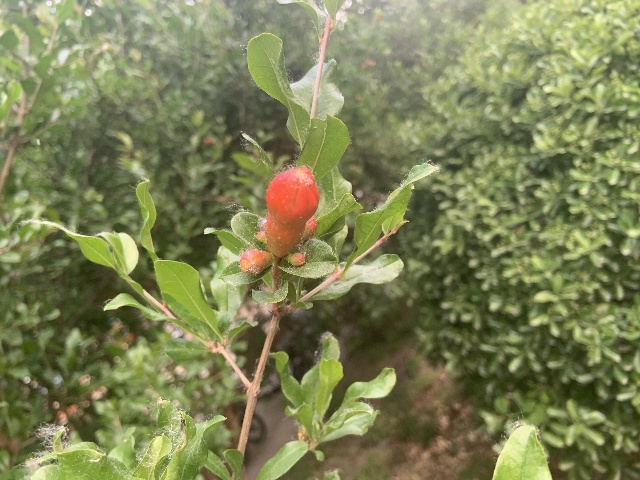bud: (263, 166, 319, 256), (239, 249, 271, 274), (300, 216, 317, 242), (282, 252, 306, 266), (255, 230, 267, 243)
